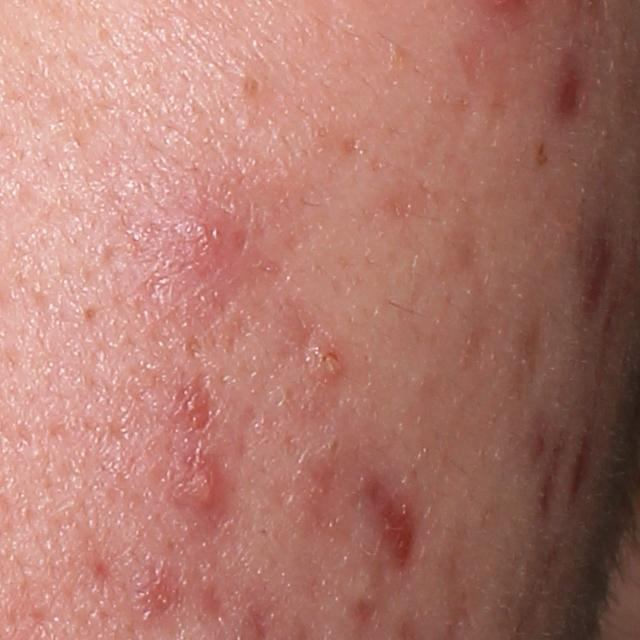atrophic_scar: (506, 307, 551, 397), (228, 398, 265, 479), (558, 60, 591, 127), (193, 575, 231, 629), (337, 130, 368, 156)
comedo: (231, 70, 271, 105), (79, 300, 99, 320)
papule: (134, 197, 250, 291), (179, 446, 228, 515), (137, 568, 189, 620), (306, 340, 341, 379)
